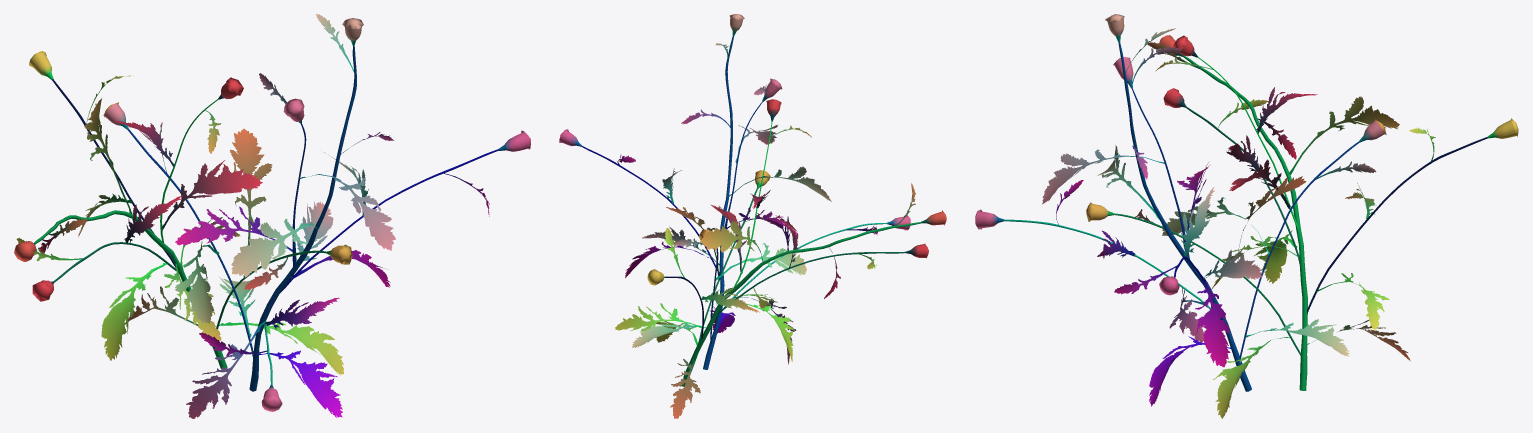
File: Field_Poppy_vmcobd0ja_Raw_vmcobd0ja_VarG_LOD0.fbx
The picture shows the model from 3 angles, left to right: view 1: azimuth 30°, elevation 25°; view 2: azimuth 150°, elevation 25°; view 3: azimuth 270°, elevation 25°; orthographic projection. The views are drawn at different scales.
Visible parts, largest first — view 1: _feup_VarG_High; view 2: _feup_VarG_High; view 3: _feup_VarG_High.
Part boxes in pixels (x1,y1,x2,y2): _feup_VarG_High: (14, 14, 530, 418); _feup_VarG_High: (559, 14, 946, 418); _feup_VarG_High: (975, 14, 1518, 418).
Size of the model in its own units: 51.5 by 39.73 by 50.28.
